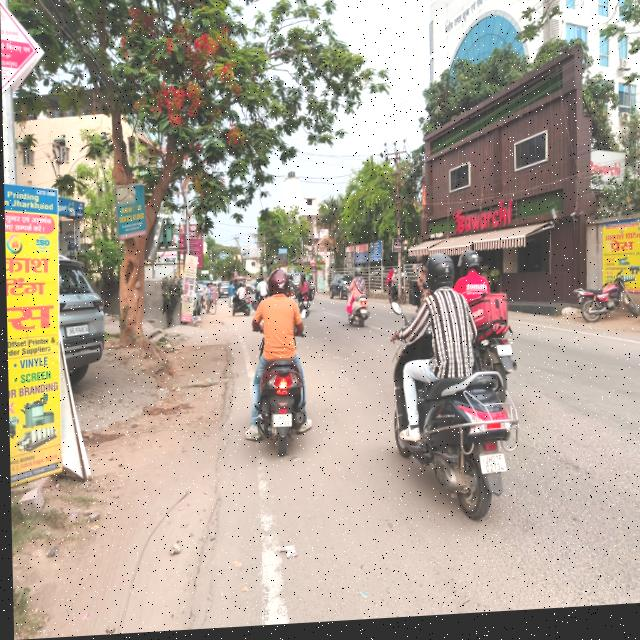bike: (384, 310, 527, 535), (250, 345, 316, 473), (569, 283, 637, 343), (343, 292, 368, 338), (227, 299, 252, 323), (295, 292, 309, 316), (308, 285, 315, 302)
car: (58, 247, 108, 388), (326, 275, 355, 306), (215, 282, 231, 301)
